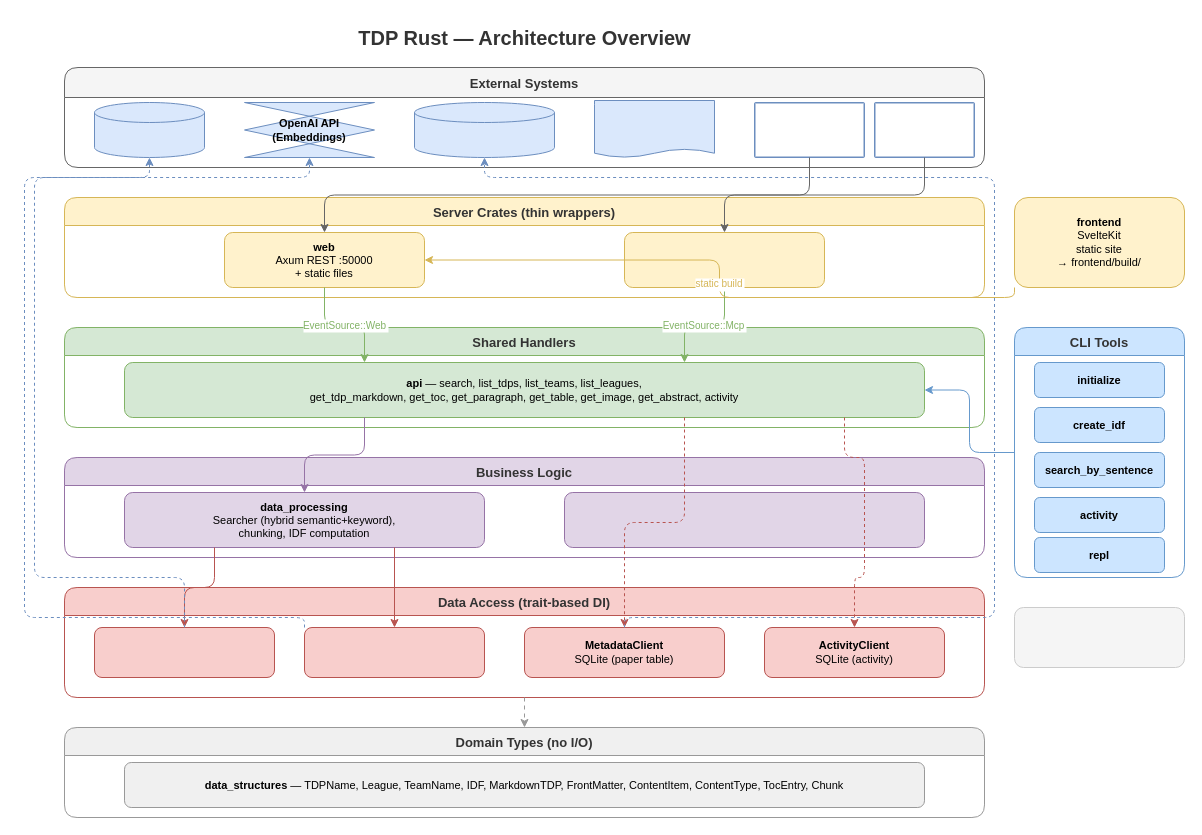
This 1202x835 diagram has some shape labels left out. Each missing label, with the centre of its shape:
AI Assistant (MCP Client): (924,130)
Browser (SvelteKit): (809,130)
configuration TOML + TDP_* env overrides, client factory helpers: (744,520)
EmbedClient OpenAI / FastEmbed: (184,652)
Legend Solid → direct calls Dashed → trait-based / async: (1099,637)
Markdown TDP Files (corpus): (654,129)
mcp rmcp server :50001 (open) :50002 (OAuth): (724,260)
Qdrant (Vector DB): (149,130)
SQLite (Metadata + Activity): (484,130)
VectorClient Qdrant: (394,652)
